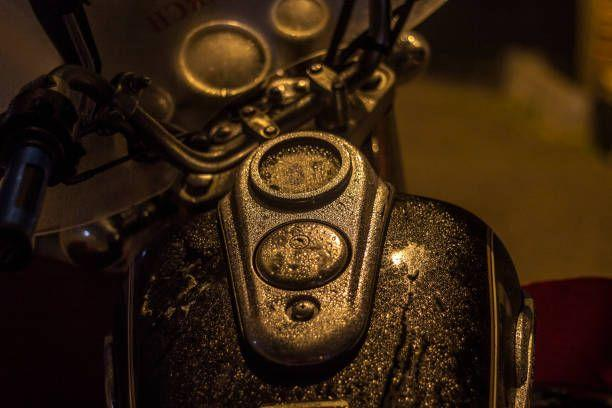automobile: (0, 0, 538, 408)
